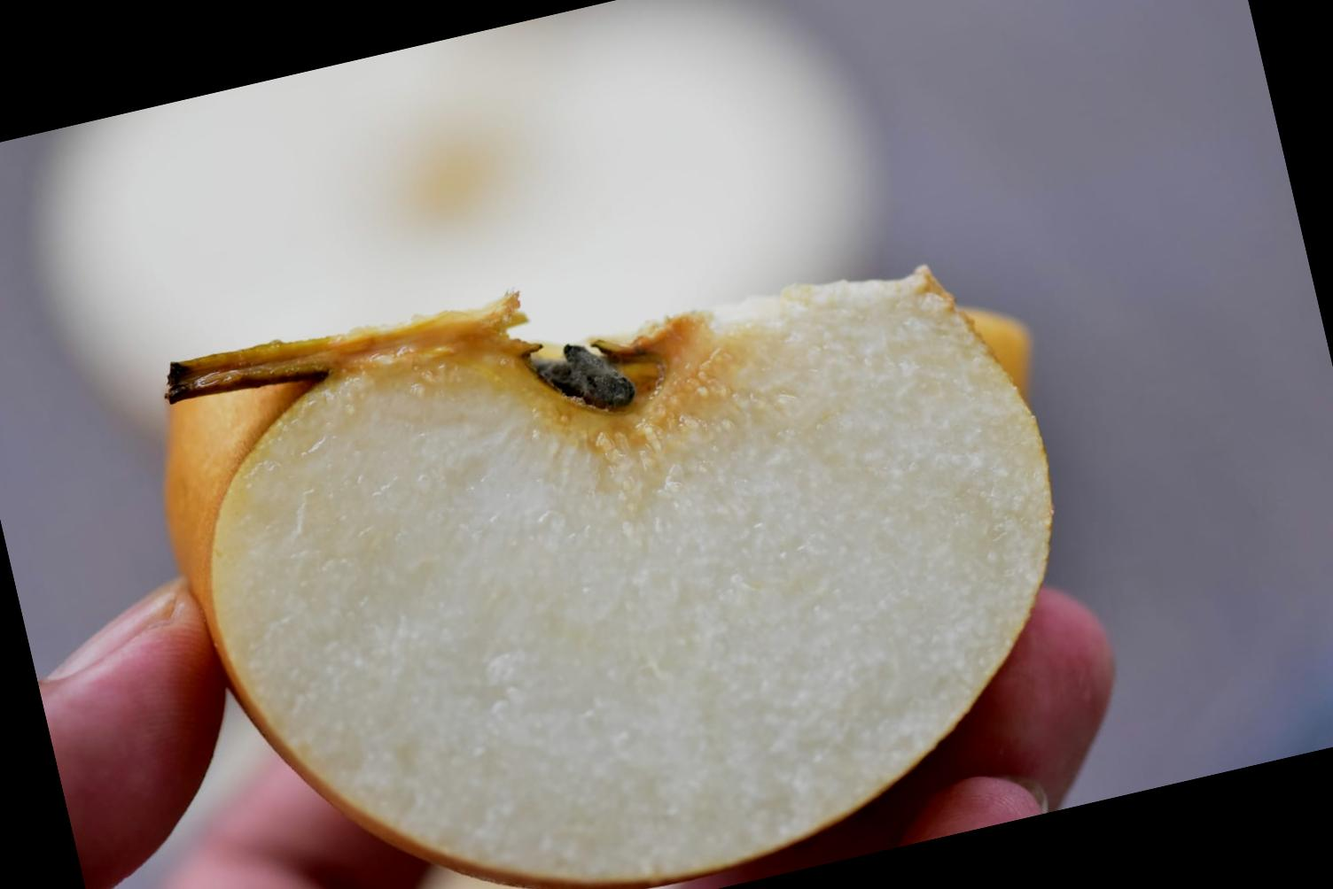Pear Overripe: (522, 242, 732, 501)
Pear Unripe: (130, 229, 552, 795)
